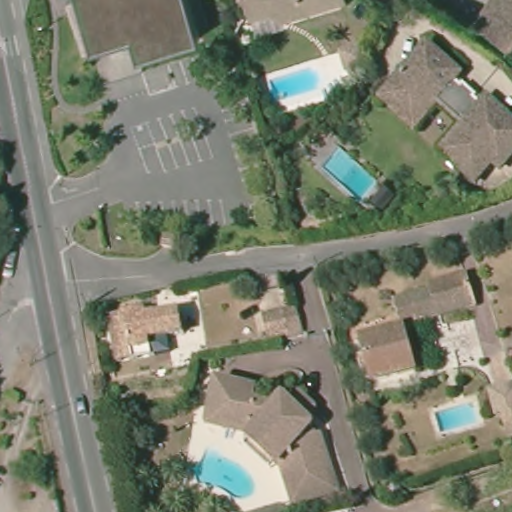pool: (191, 444, 262, 502), (318, 146, 381, 205), (259, 68, 326, 105), (430, 395, 484, 436)
